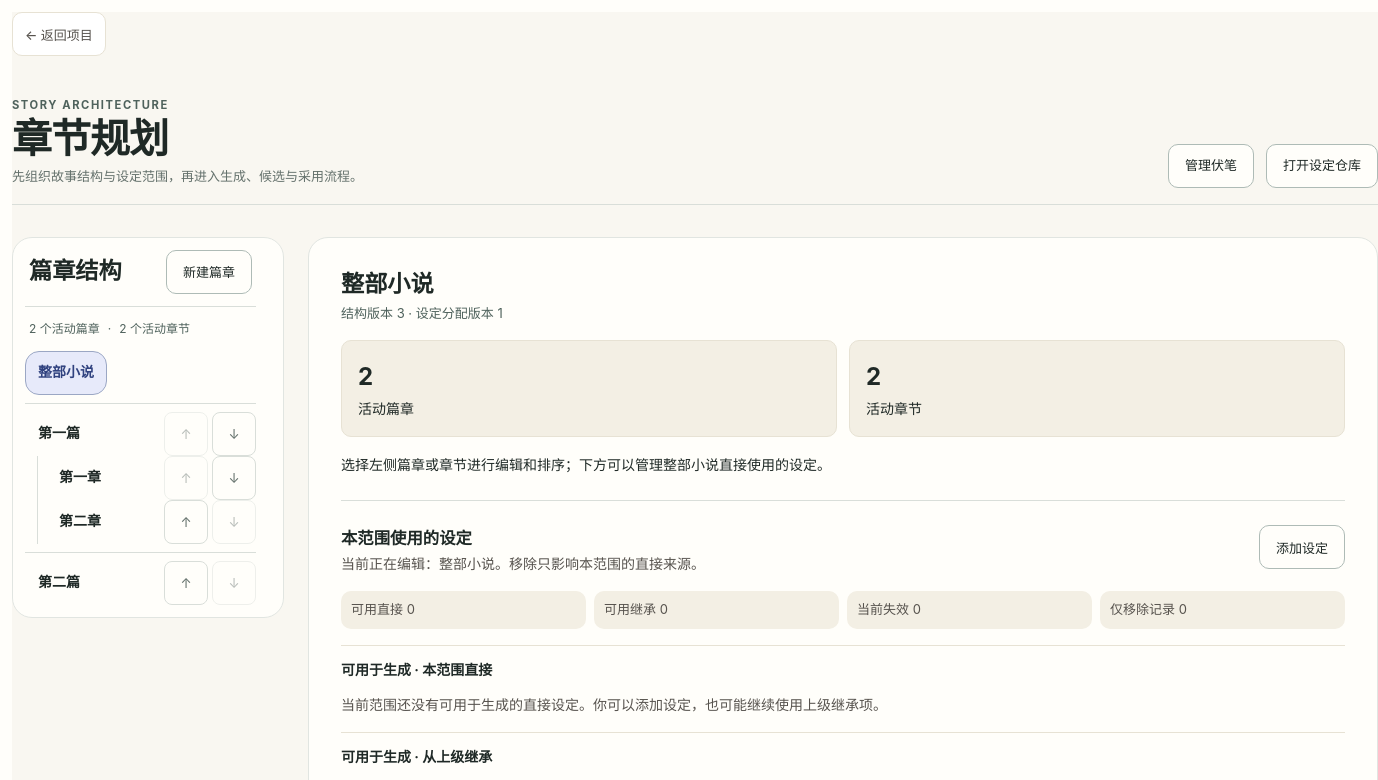
Test: ChapterPlanningPage › keeps a mismatched direct reorder receipt and freezes further writes
Expected: the heading "章节规划" is shown, [12,118,168,162]
Click the button named "下移章节 第一章".
click(234, 478)  # box [212,456,256,500]
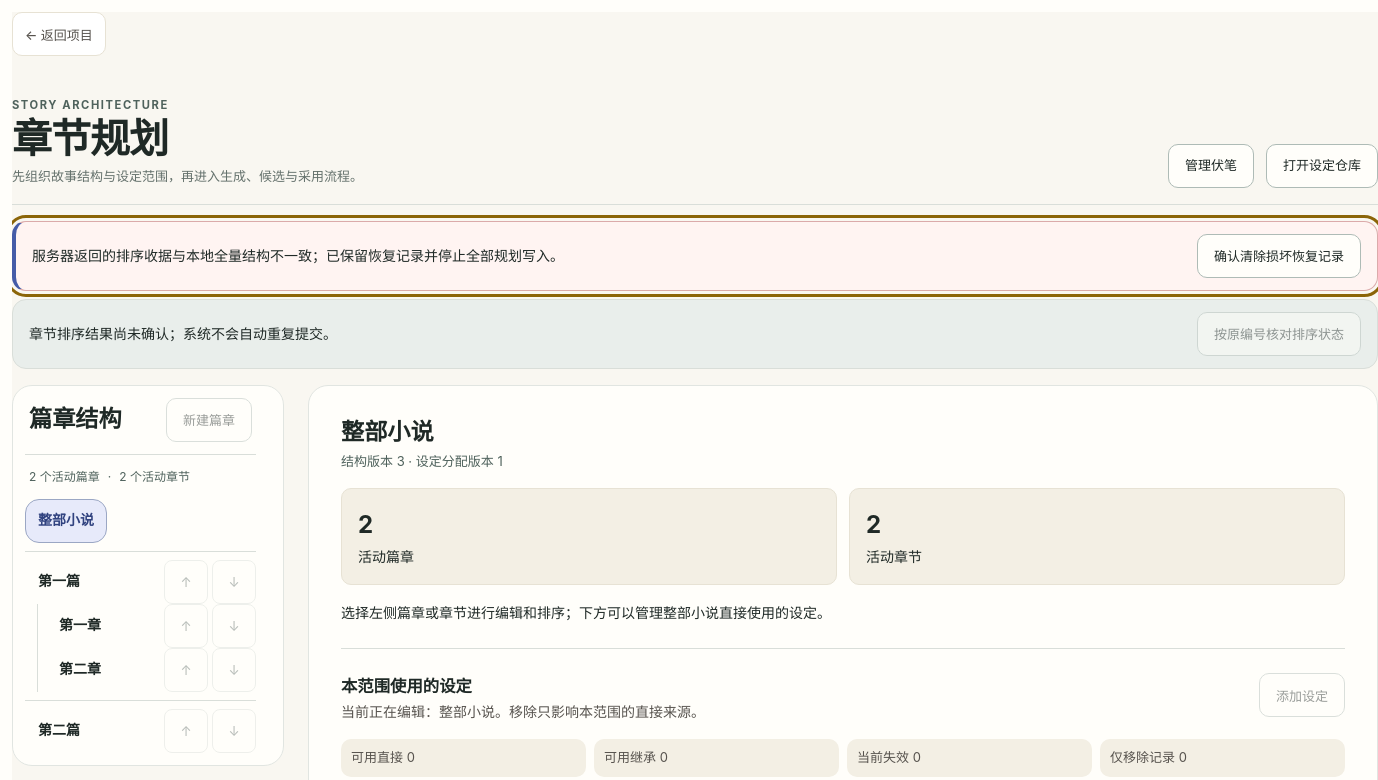
Expected: the text "服务器返回的排序收据与本地全量结构不一致；已保留恢复记录并停止全部规划写入。" is shown, [32,244,564,268]
Expected: the button "新建篇章" is disabled, [166,398,252,442]
